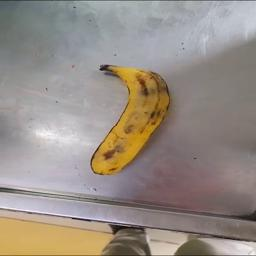Banana Semirotten: (82, 58, 177, 177)
